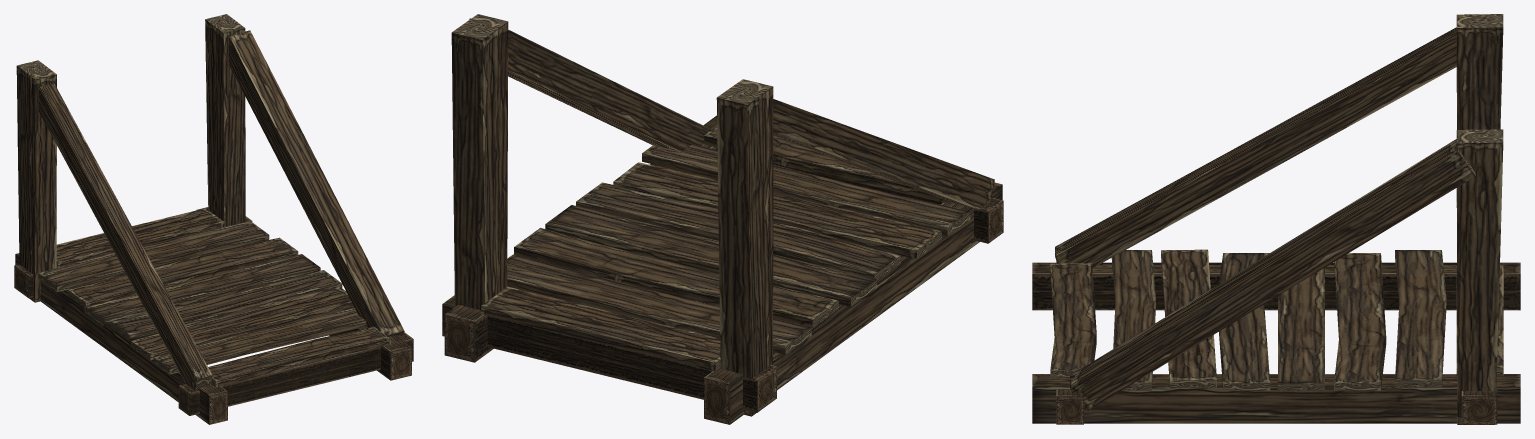
The model's file is Bridge_4X6_01.fbx.
The picture shows the model from 3 angles, left to right: view 1: azimuth 30°, elevation 25°; view 2: azimuth 150°, elevation 25°; view 3: azimuth 270°, elevation 25°; orthographic projection. The views are drawn at different scales.
Visible parts, largest first — view 1: Bridge_4X6_Deck_01, Bridge_4X6_Side_01, Bridge_4X6_Side_02; view 2: Bridge_4X6_Deck_01, Bridge_4X6_Side_02, Bridge_4X6_Side_01; view 3: Bridge_4X6_Deck_01, Bridge_4X6_Side_01, Bridge_4X6_Side_02.
Boxes of the visible parts, <box> form: Bridge_4X6_Deck_01: <box>14,207,413,424</box>; Bridge_4X6_Side_01: <box>205,14,404,336</box>; Bridge_4X6_Side_02: <box>16,60,212,390</box>; Bridge_4X6_Deck_01: <box>442,115,1003,424</box>; Bridge_4X6_Side_02: <box>716,79,994,416</box>; Bridge_4X6_Side_01: <box>451,14,711,310</box>; Bridge_4X6_Deck_01: <box>1032,249,1520,424</box>; Bridge_4X6_Side_01: <box>1070,129,1503,424</box>; Bridge_4X6_Side_02: <box>1055,14,1503,267</box>.
Size of the model in its own units: 4 by 3.82 by 6.
